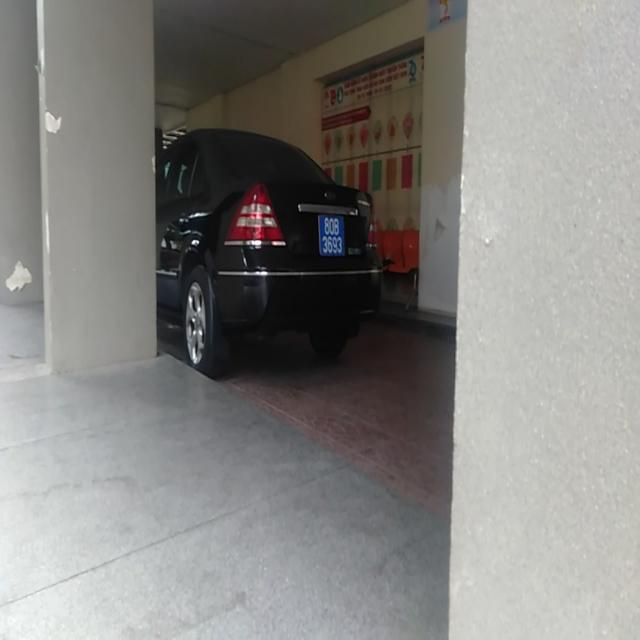bien_xanh: (316, 207, 346, 261)
